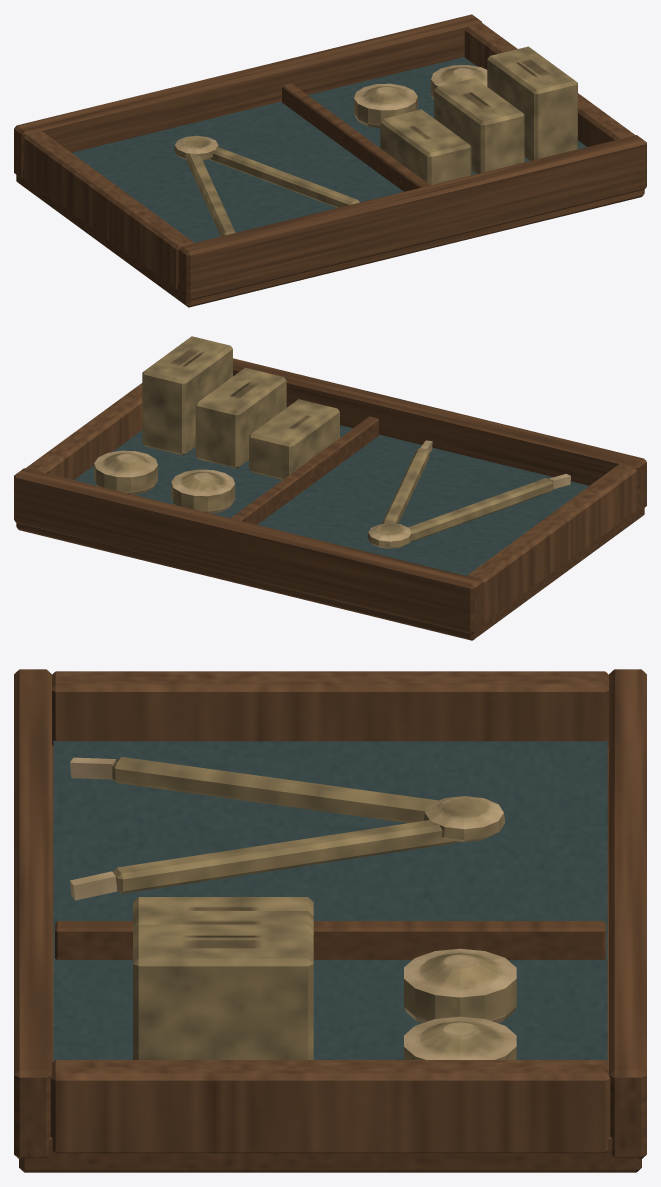
File: DividerPartsTray_LOD0.fbx
3 renders of one model, top to bottom at view 1: azimuth 30°, elevation 25°; view 2: azimuth 150°, elevation 25°; view 3: azimuth 270°, elevation 25°, orthographic. The views are drawn at different scales.
Visible parts, largest first — view 1: DividerPartsTray; view 2: DividerPartsTray; view 3: DividerPartsTray.
Part boxes in pixels (x1,y1,x2,y2): DividerPartsTray: [14, 14, 646, 307]; DividerPartsTray: [14, 336, 646, 640]; DividerPartsTray: [14, 669, 646, 1172].
Bounding box in the file's own units: 0.682 × 0.1435 × 0.449.
1 material, 1 textured.
